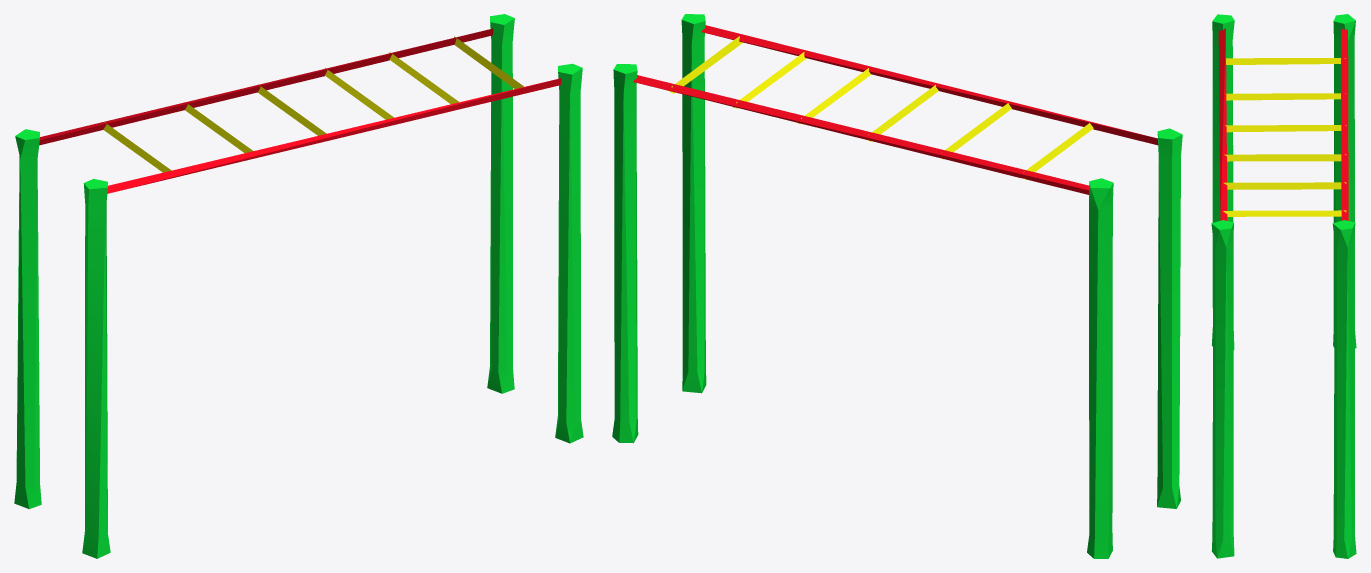
Rendered from BrinquedoEscalevelLOD1.fbx.
The picture shows the model from 3 angles, left to right: view 1: azimuth 30°, elevation 25°; view 2: azimuth 150°, elevation 25°; view 3: azimuth 270°, elevation 25°; orthographic projection. The views are drawn at different scales.
Visible parts, largest first — view 1: BrinquedoEscalavelLOD1; view 2: BrinquedoEscalavelLOD1; view 3: BrinquedoEscalavelLOD1.
Boxes of the visible parts, x1=… form: BrinquedoEscalavelLOD1: x1=14, y1=14, x2=583, y2=558; BrinquedoEscalavelLOD1: x1=612, y1=14, x2=1182, y2=558; BrinquedoEscalavelLOD1: x1=1211, y1=14, x2=1356, y2=558.
Size of the model in its own units: 256 by 181 by 72.57.
